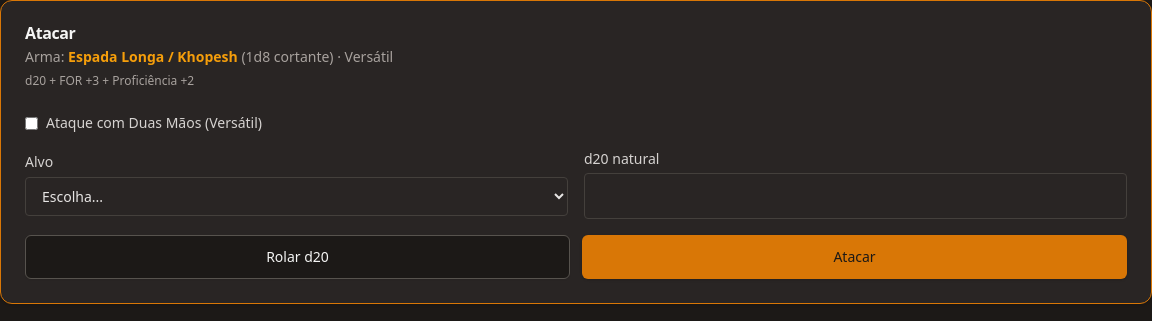
Test: AttackPanel: errar › d20 baixo contra a CA: mostra "Errou", registra o ataque sem dano e usa a Ação
The width and height of the screenshot is (1152, 321).
Select "Filisteu" in the dropdown labelled "Alvo" at (296, 196), box [25,177,568,216]
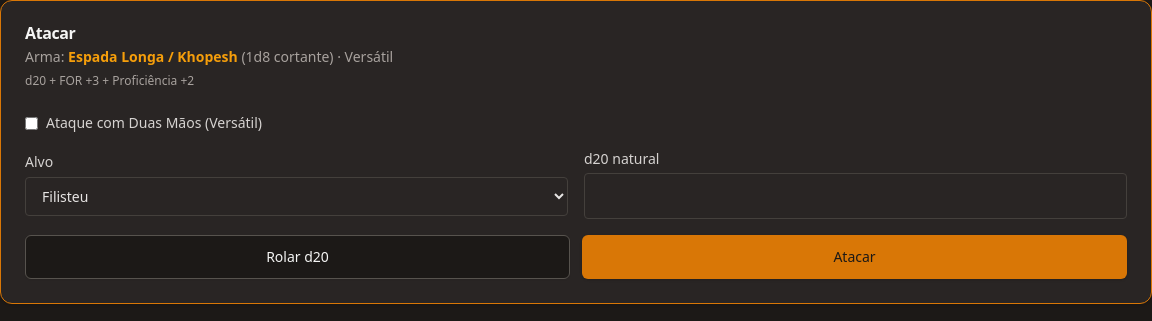
Type "5" into the number field labelled "d20 natural" at (856, 196), box [584,173,1127,219]
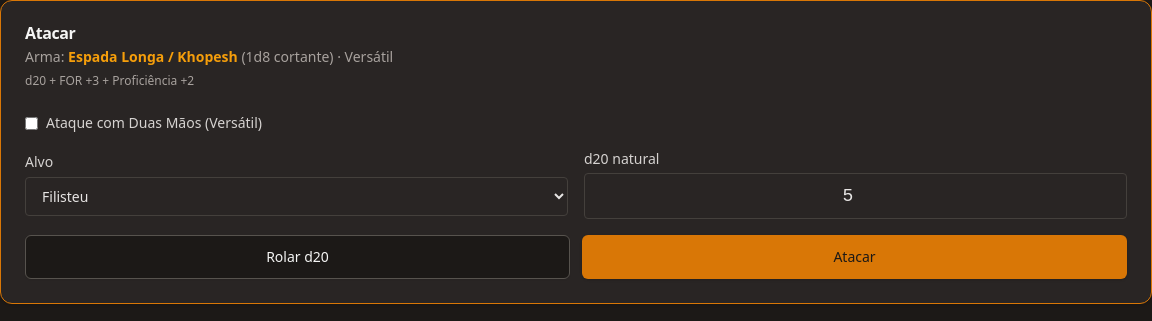
Click the button "Atacar" at (854, 257), box [582,235,1127,279]
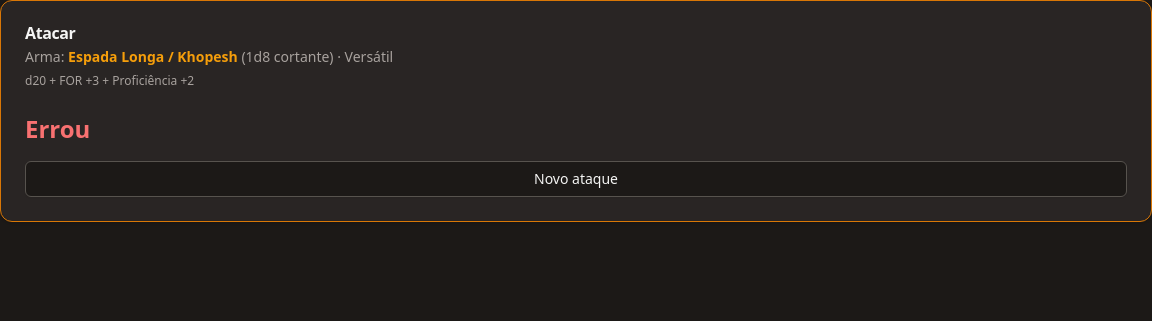
Check: the text "Errou" is shown, box [25,112,90,145]
